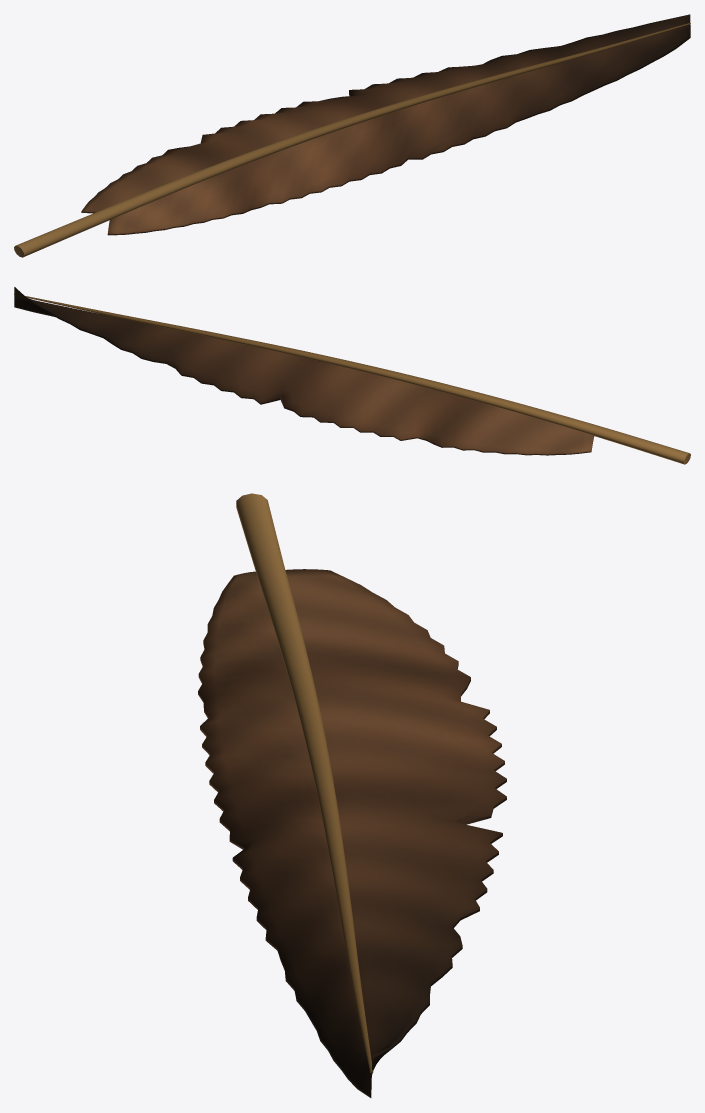
File: eagle_feather.glb
The picture shows the model from 3 angles, top to bottom: view 1: azimuth 30°, elevation 25°; view 2: azimuth 150°, elevation 25°; view 3: azimuth 270°, elevation 25°; orthographic projection. The views are drawn at different scales.
Visible parts, largest first — view 1: eagle_feather_mesh; view 2: eagle_feather_mesh; view 3: eagle_feather_mesh.
Boxes of the visible parts, left/top/right/bottom form: eagle_feather_mesh: left=14, top=14, right=690, bottom=257; eagle_feather_mesh: left=14, top=287, right=690, bottom=464; eagle_feather_mesh: left=198, top=493, right=506, bottom=1097.
Bounding box in the file's own units: 0.2734 × 0.0173 × 0.0568.
2 materials, 2 textured.
